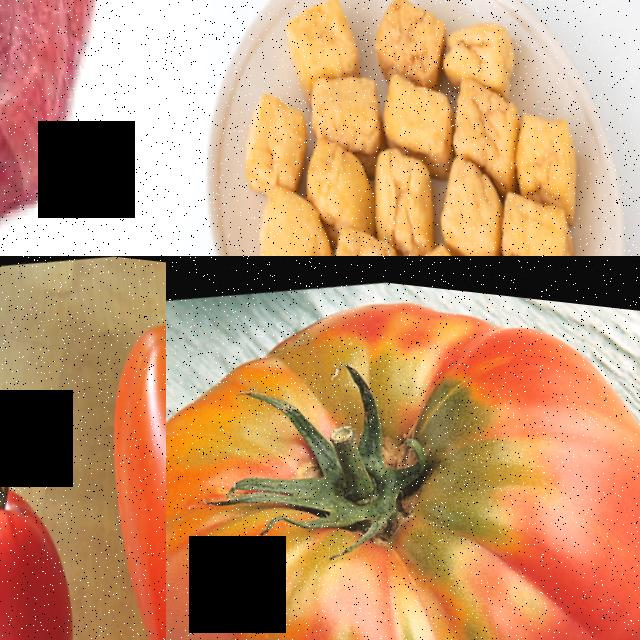tofu: (439, 56, 530, 185), (229, 78, 320, 200), (507, 92, 594, 215), (363, 130, 447, 256), (363, 0, 459, 88), (246, 172, 344, 256), (274, 0, 366, 87), (303, 60, 390, 152), (497, 174, 585, 256)
tomato: (166, 256, 640, 640), (74, 261, 166, 640), (0, 441, 104, 640)
tuna: (0, 0, 165, 256)
